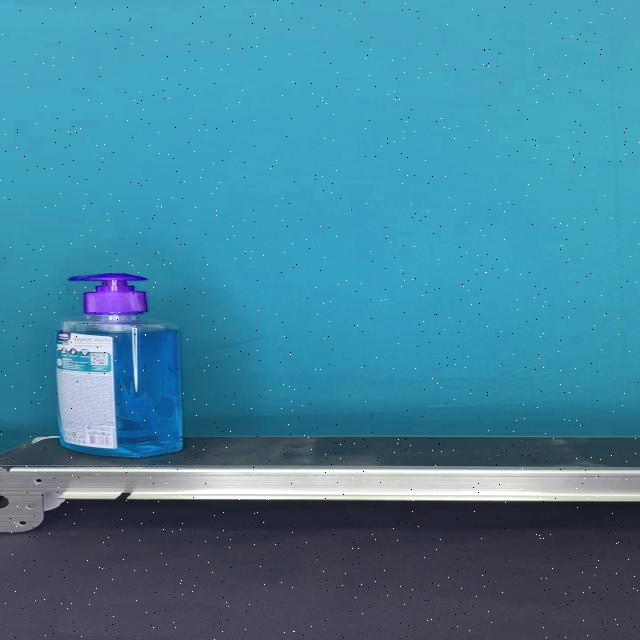Bottle: (53, 273, 183, 458)
Cap: (66, 273, 148, 315)
